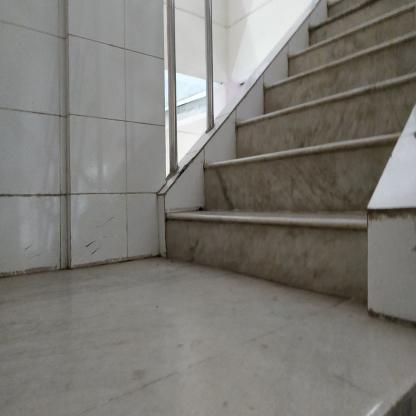stairs: (291, 59, 364, 321)
